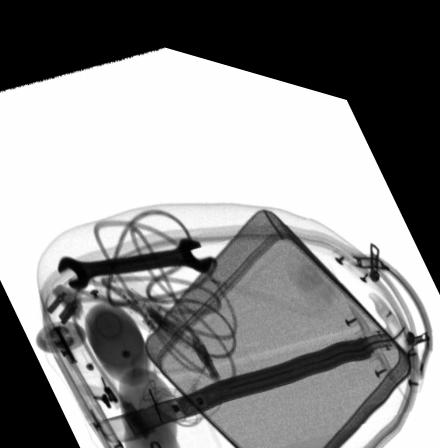Wrench: (56, 227, 212, 284)
